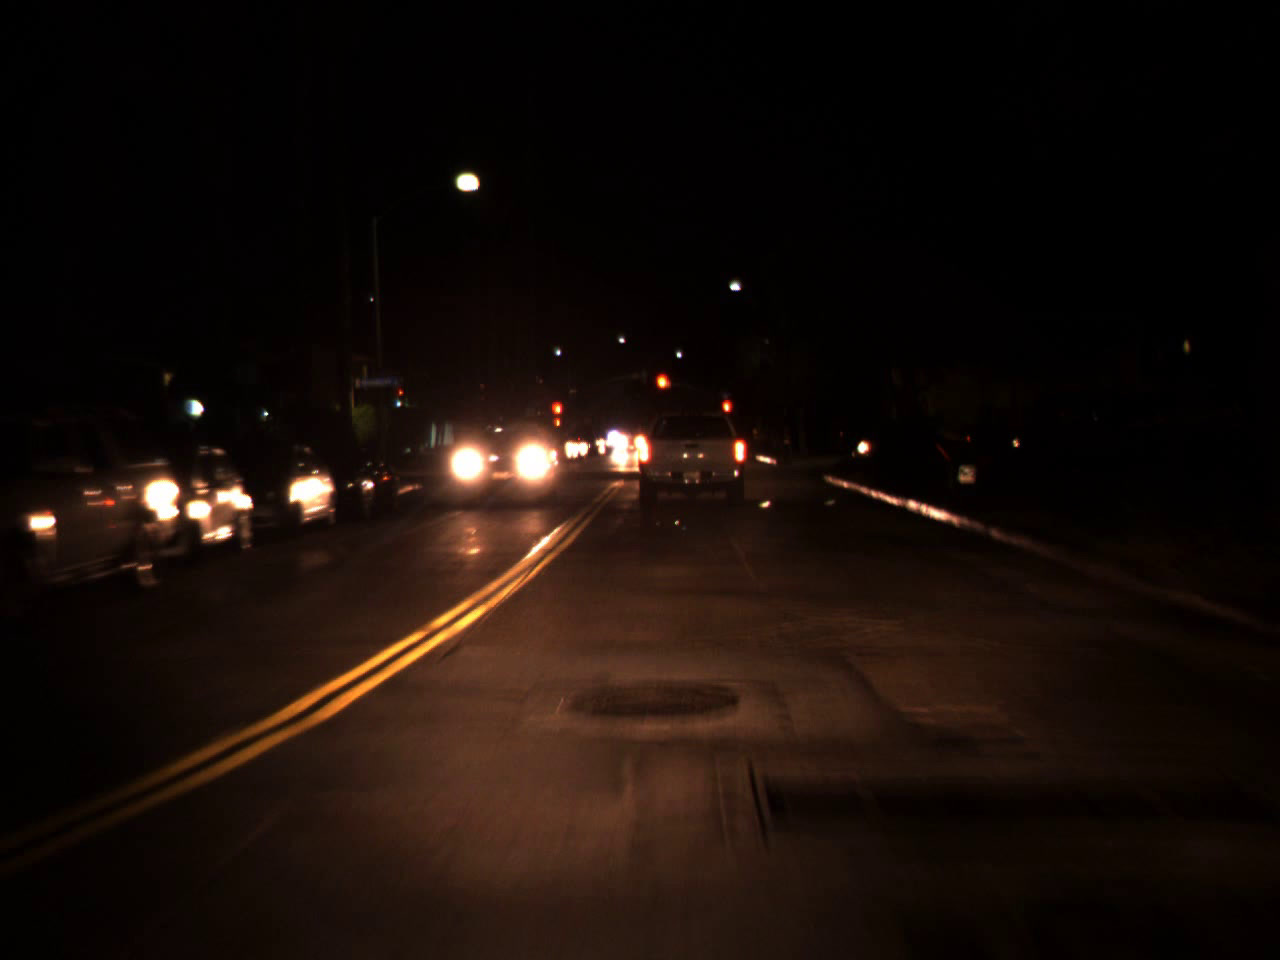stop: (654, 371, 672, 406), (719, 397, 734, 429), (549, 399, 564, 431)
